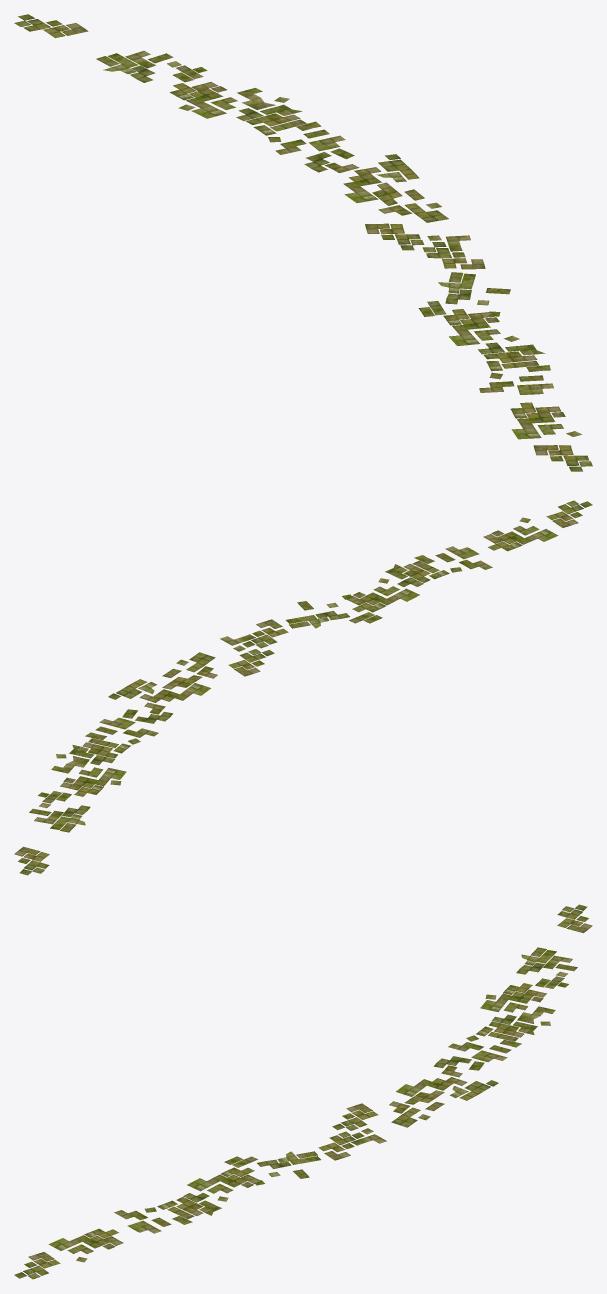
The model's file is mesh_road_jungle_road.FBX.
3 renders of one model, top to bottom at view 1: azimuth 30°, elevation 25°; view 2: azimuth 150°, elevation 25°; view 3: azimuth 330°, elevation 25°, orthographic. The views are drawn at different scales.
Visible parts, largest first — view 1: mesh_road_jungle_road; view 2: mesh_road_jungle_road; view 3: mesh_road_jungle_road.
Boxes of the visible parts, x1,y1,x2,y2 form: mesh_road_jungle_road: [14, 14, 592, 471]; mesh_road_jungle_road: [14, 500, 592, 875]; mesh_road_jungle_road: [14, 904, 592, 1279].
Bounding box in the file's own units: 24.71 × 1.04e-06 × 128.
